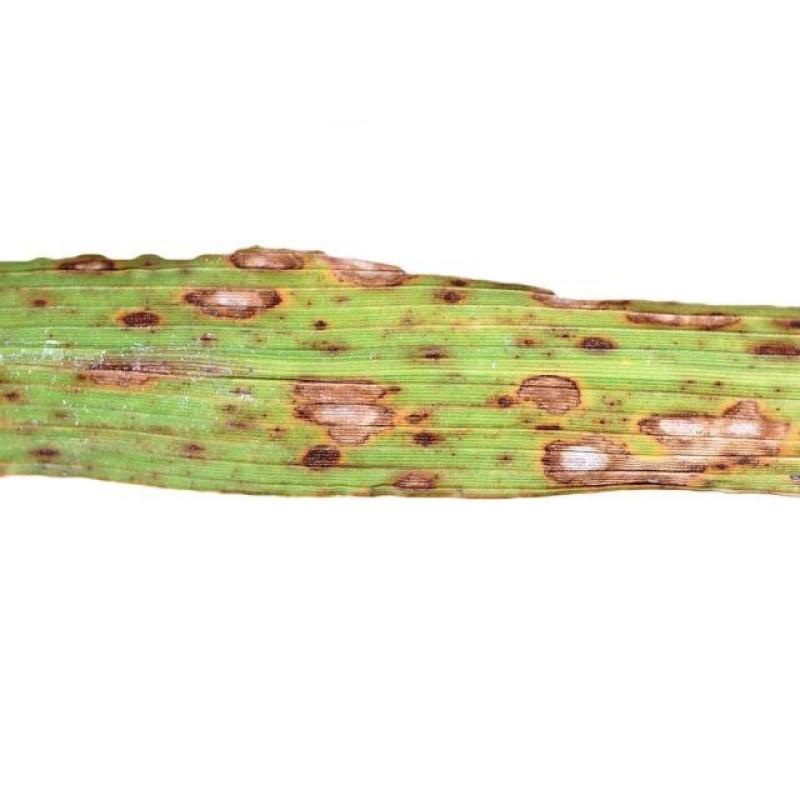Leaf_Blast: (233, 370, 446, 496), (537, 288, 800, 356), (212, 240, 407, 299), (651, 398, 761, 484), (171, 280, 310, 319), (505, 362, 587, 418), (542, 430, 620, 476), (51, 255, 139, 293), (105, 312, 189, 346)
